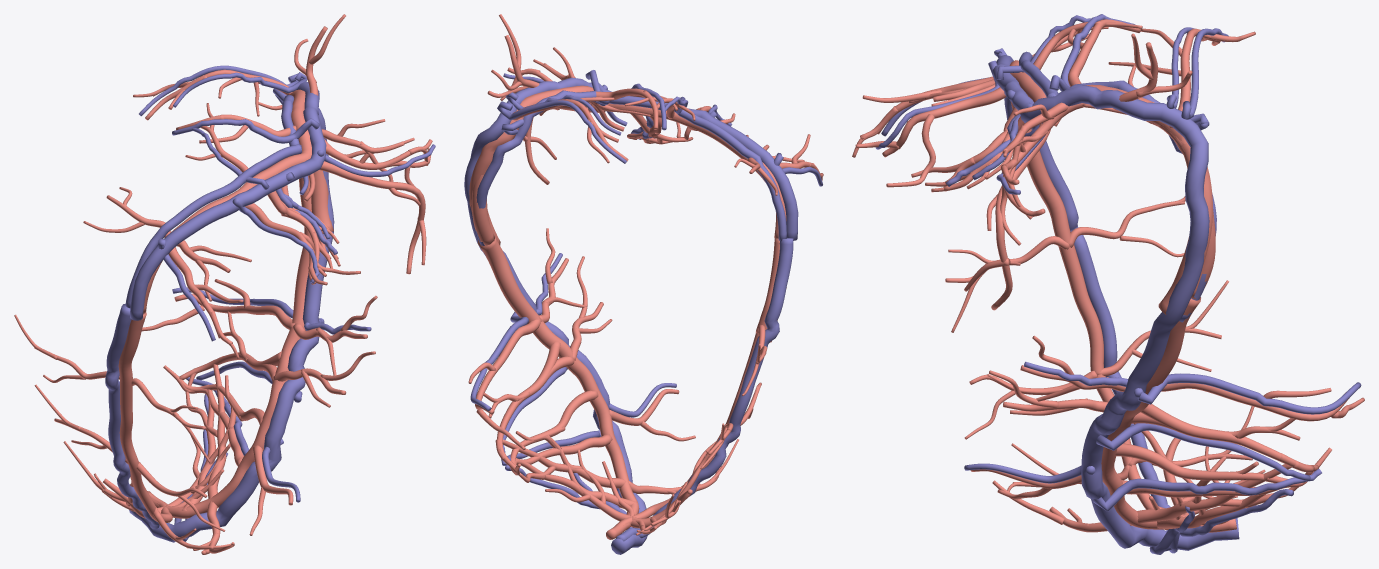
The model's file is vessels_41.glb.
The picture shows the model from 3 angles, left to right: view 1: azimuth 30°, elevation 25°; view 2: azimuth 150°, elevation 25°; view 3: azimuth 270°, elevation 25°; orthographic projection. The views are drawn at different scales.
Parts seen in each view (by area): view 1: Renderer Node; view 2: Renderer Node; view 3: Renderer Node.
Part boxes in pixels (box(x1,y1,x2,y2)): Renderer Node: box(14, 14, 435, 554); Renderer Node: box(464, 14, 823, 554); Renderer Node: box(852, 14, 1364, 554).
Bounding box in the file's own units: 89.2 × 121 × 91.86.
